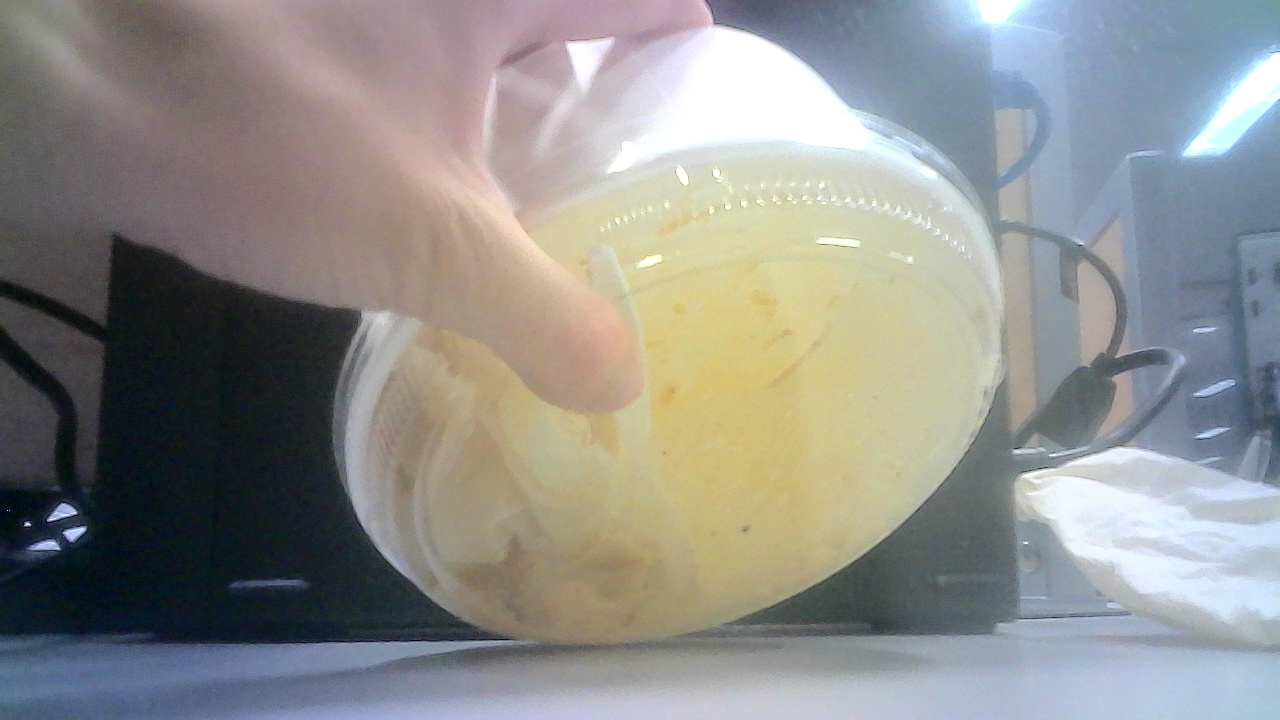Undefined_Waste: (323, 22, 1019, 655)
